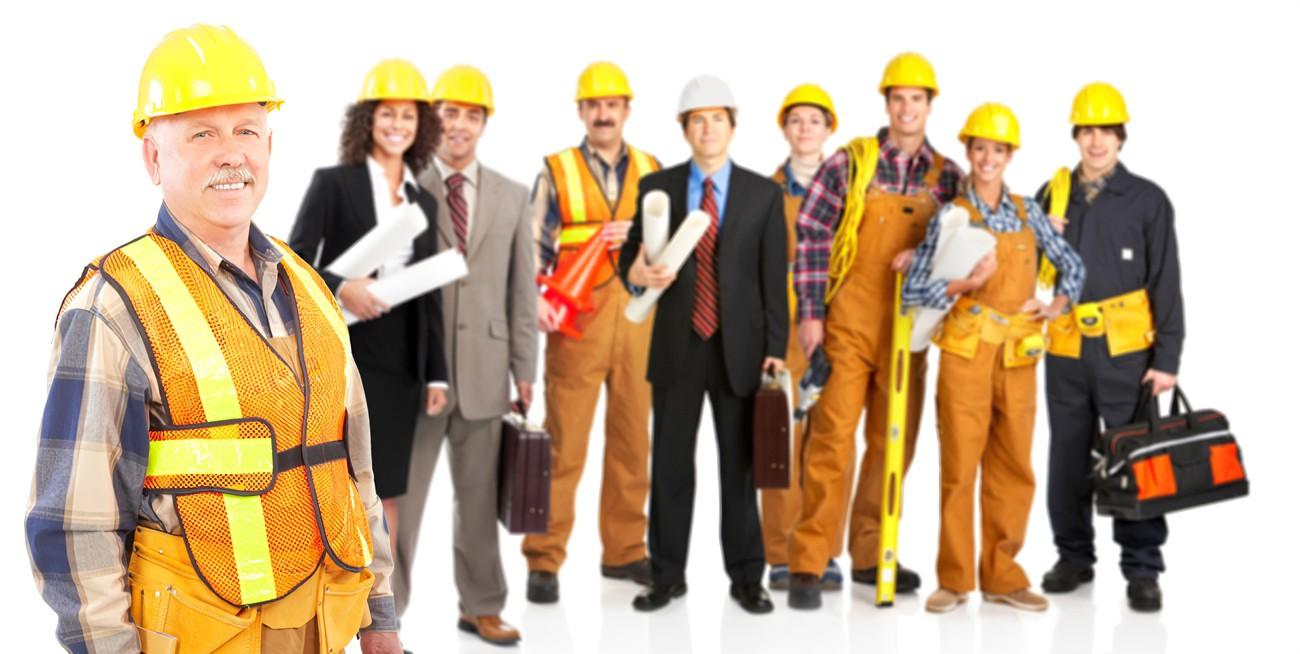safetyhat: (43, 7, 360, 632)
